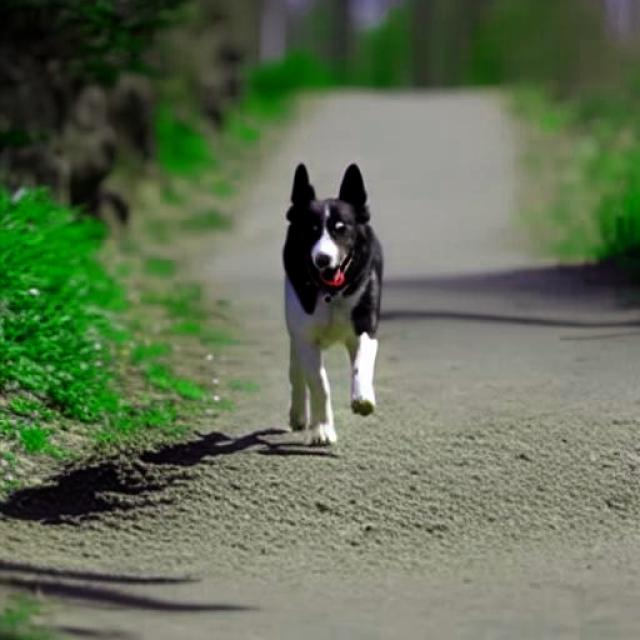Dog: (282, 162, 384, 447)
